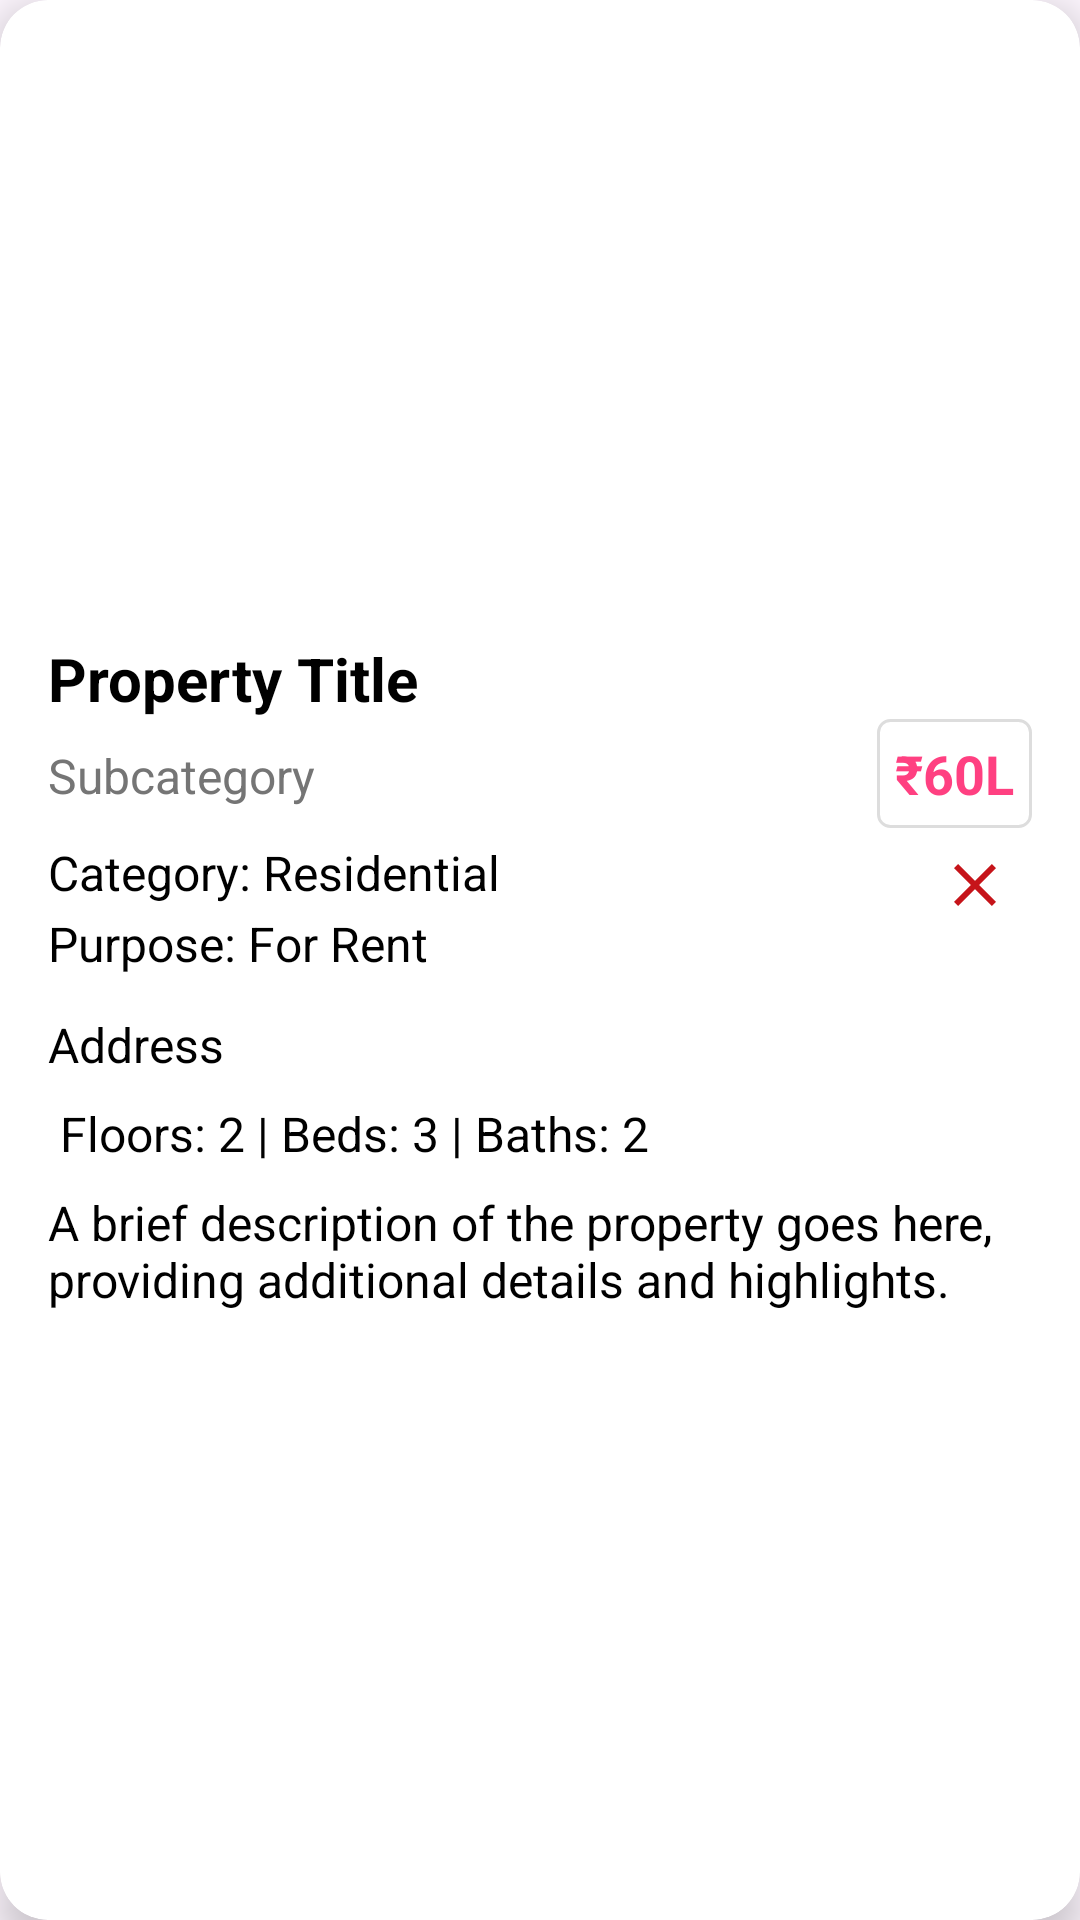

Icon click points for this 1080w x 1920h phone screenshot, format (x=x, y=y):
Remove Favourite: (x=975, y=885)
